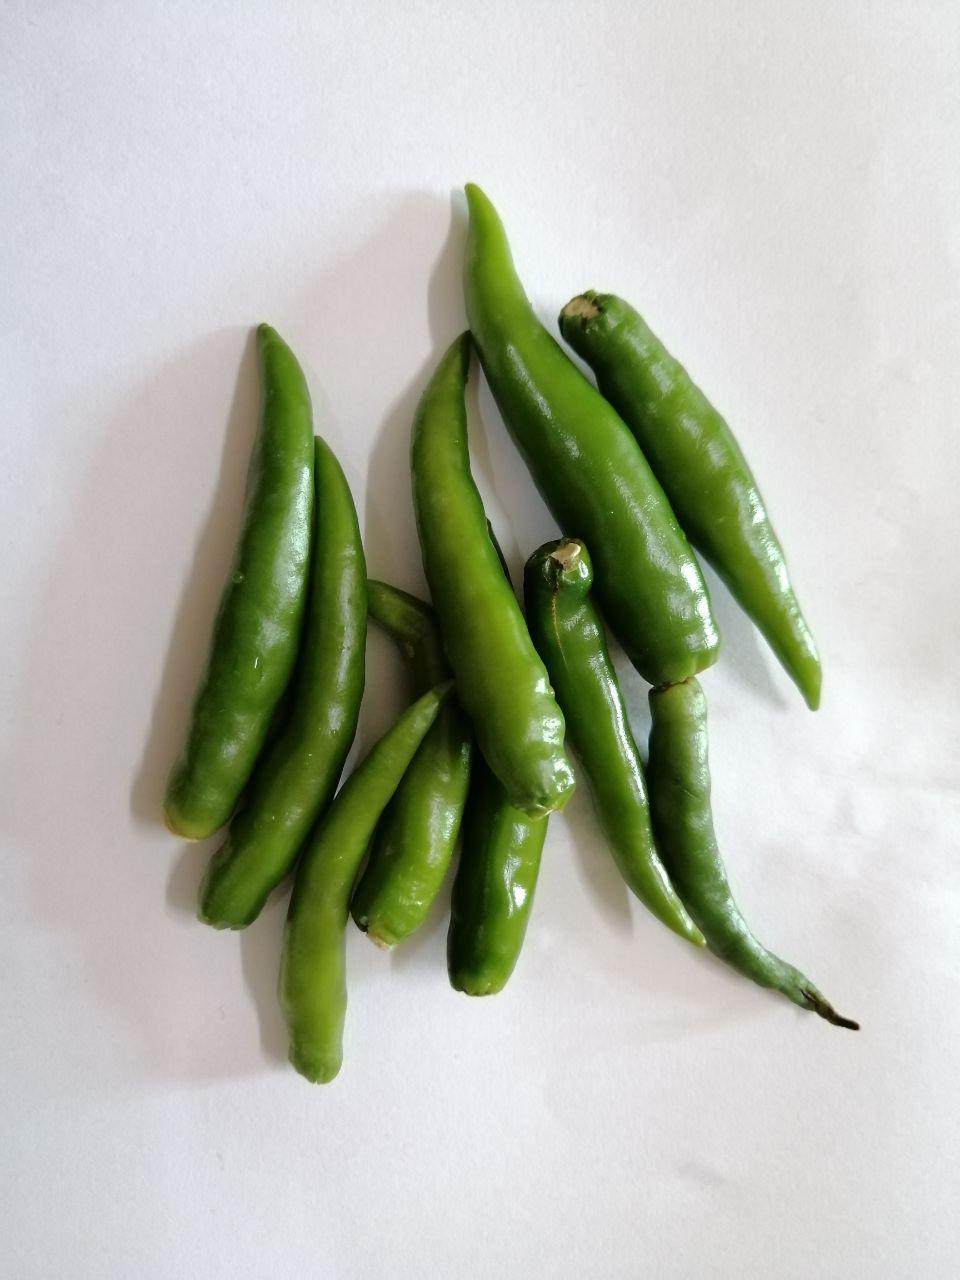lada hijau: (437, 174, 771, 714), (541, 272, 871, 729), (612, 670, 884, 1074), (145, 314, 337, 835), (190, 431, 375, 939), (514, 525, 730, 961), (257, 668, 475, 1090), (349, 565, 473, 959), (435, 765, 581, 1035)
